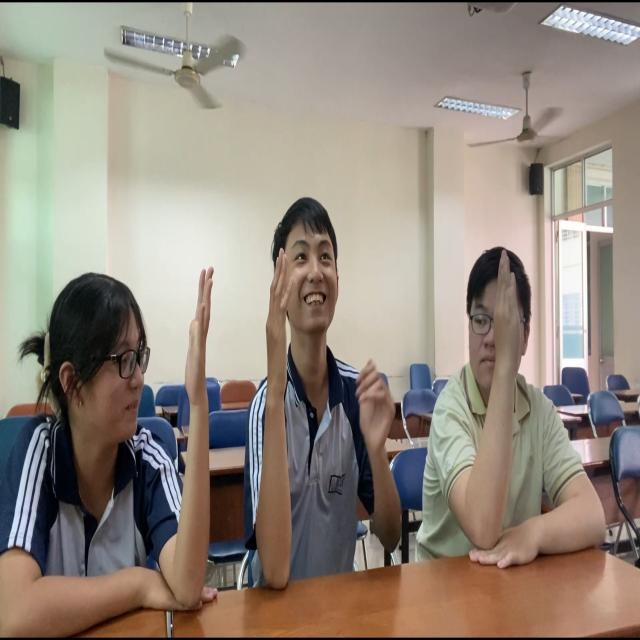raise_hand: (1, 249, 226, 640), (430, 243, 613, 575)
